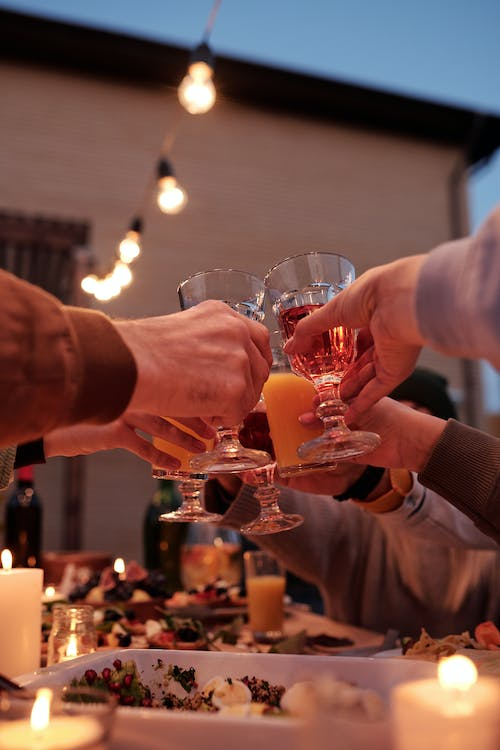alcohol: (261, 250, 384, 462), (175, 269, 272, 475), (232, 398, 307, 537), (157, 482, 225, 524)
